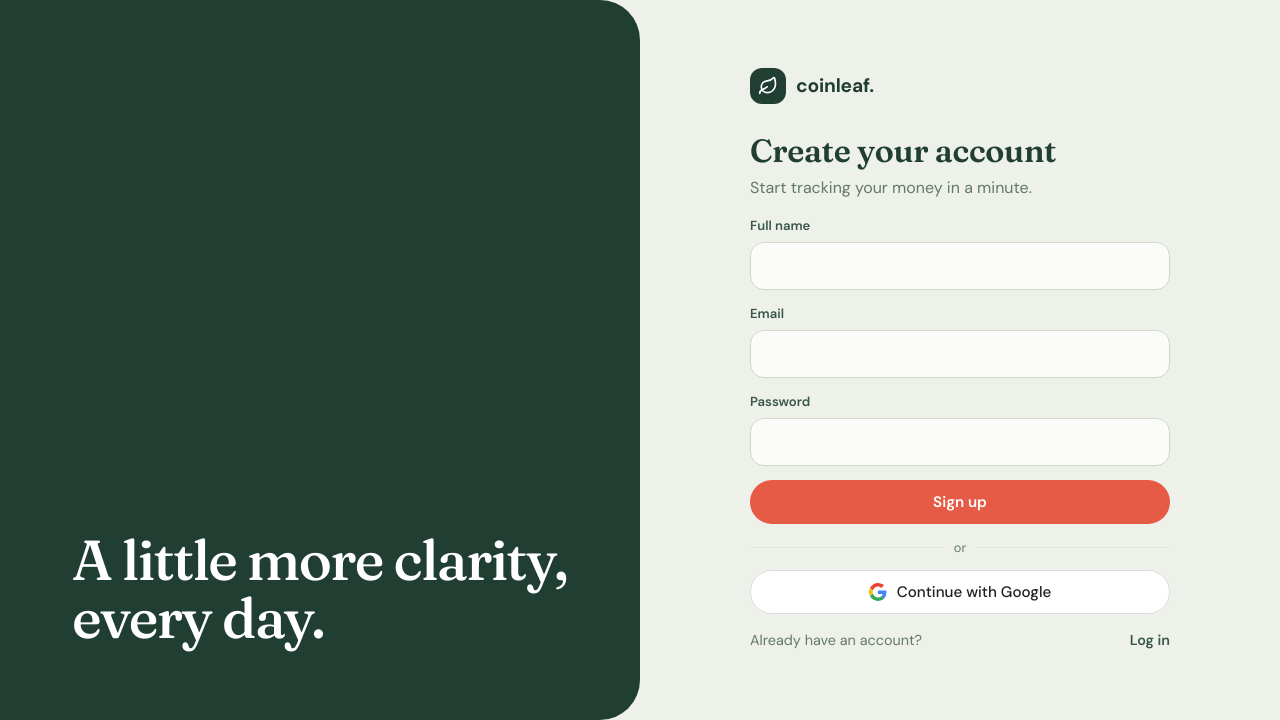
Test: signup › creates the account with the name and a confirmation link
Type "Ayesha Khan" into the field labelled "Full name" at [960, 266], box top-left (750, 242), bottom-right (1170, 290)
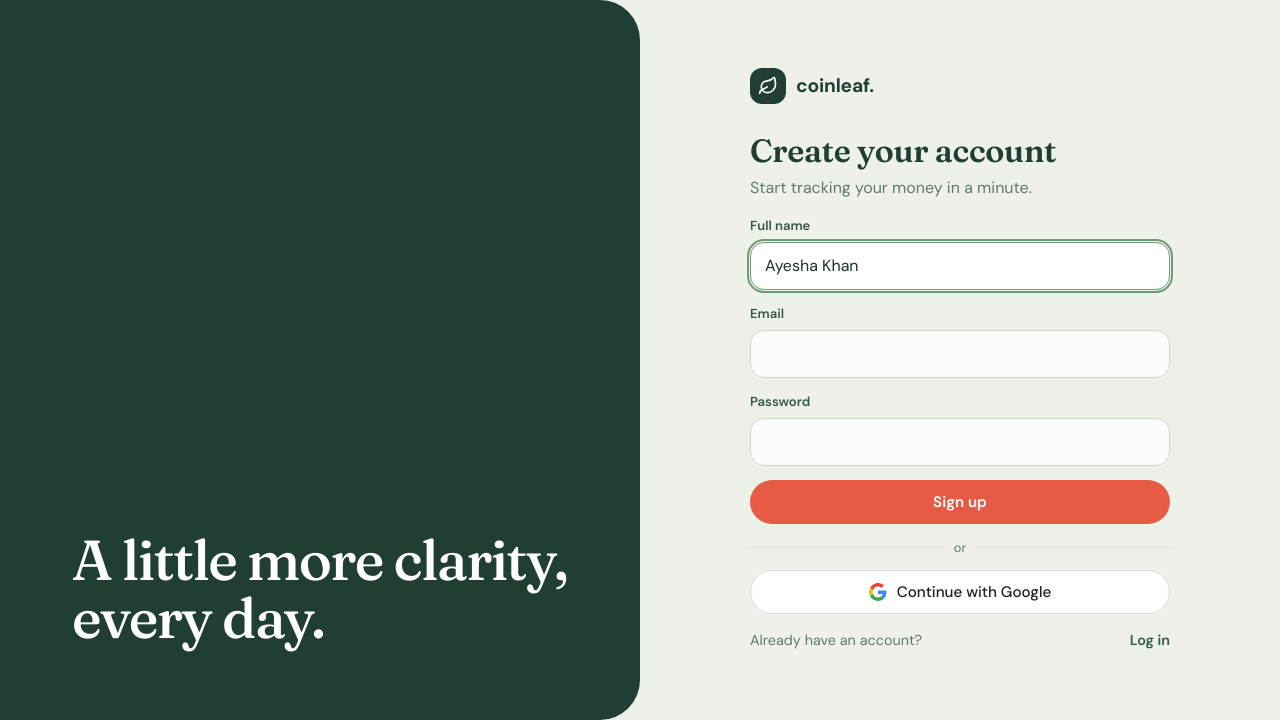
Type "a@b.co" into the field labelled "Email" at [960, 354], box top-left (750, 330), bottom-right (1170, 378)
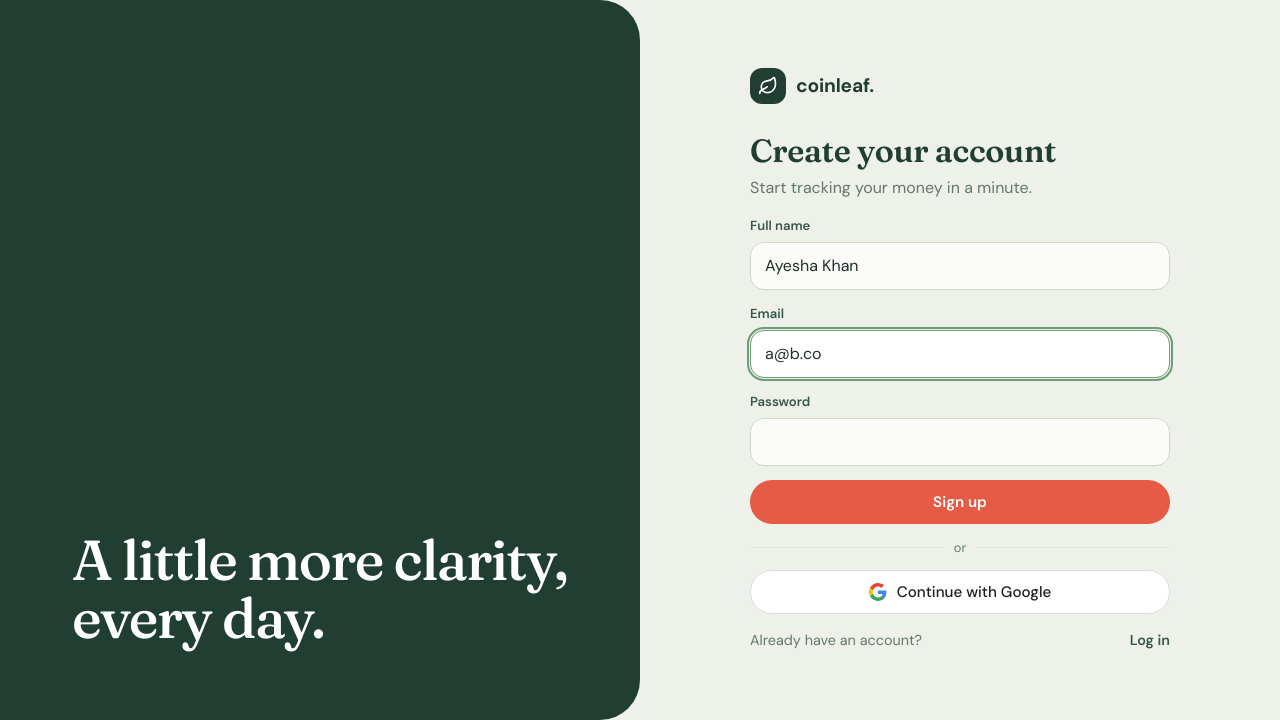
Type "long-enough-pw" into the password field labelled "Password" at [960, 442], box top-left (750, 418), bottom-right (1170, 466)
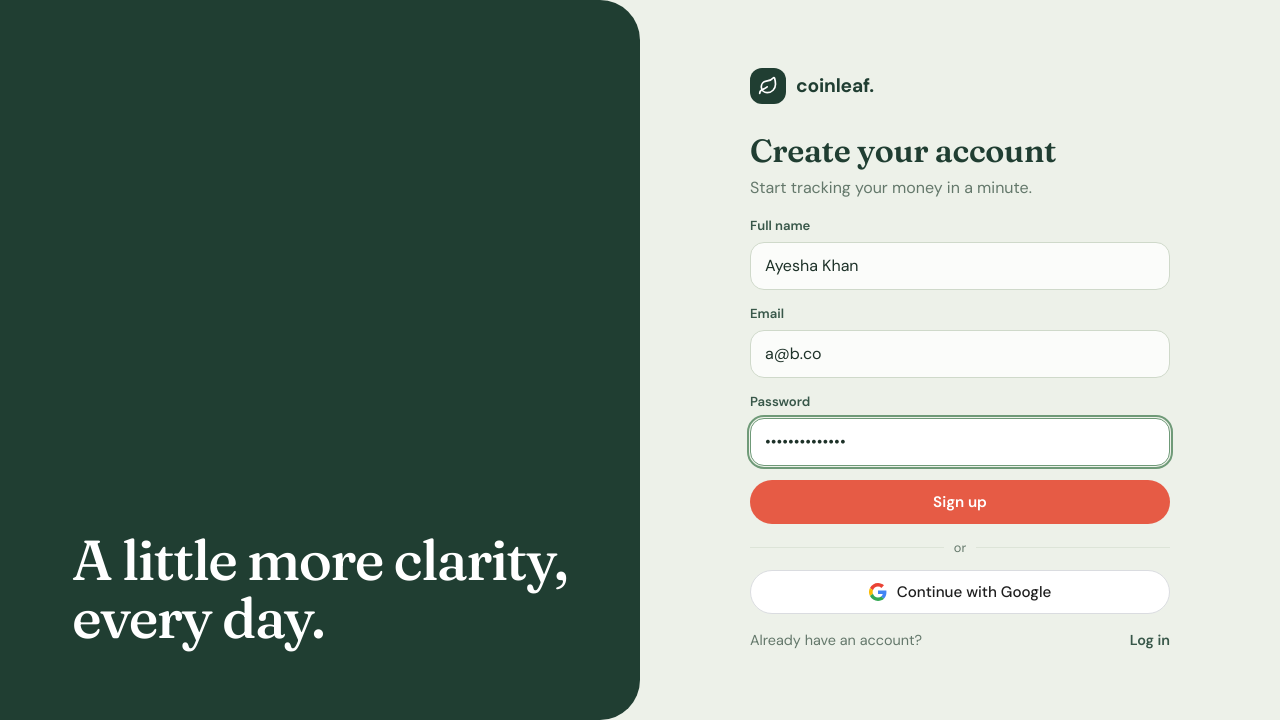
Click the button "Sign up" at [960, 502], box top-left (750, 480), bottom-right (1170, 524)
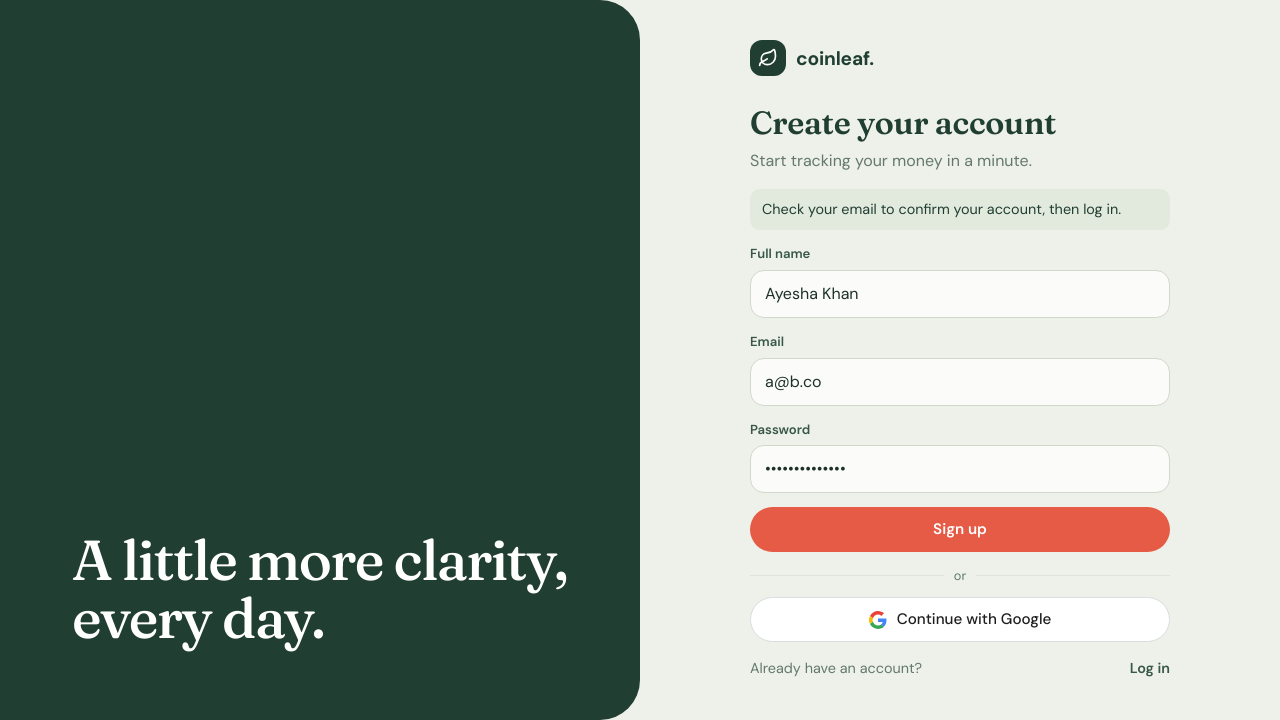
Expected: the text "Check your email to confirm your account, then log in." is shown, top-left (750, 189), bottom-right (1170, 230)
